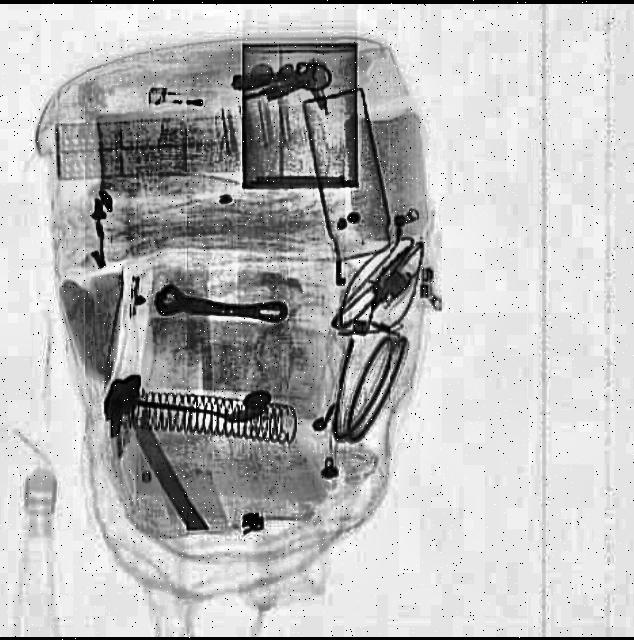Wrench: (156, 282, 292, 332)
